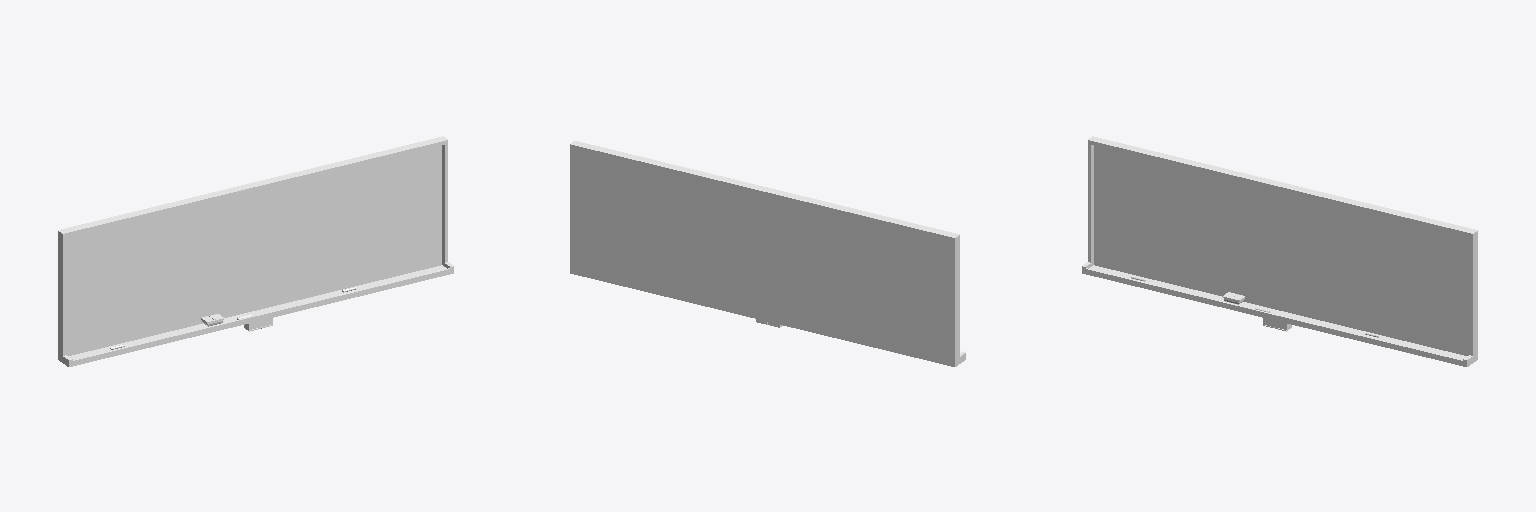
The model's file is blackboard.obj.
The picture shows the model from 3 angles: view 1: azimuth 30°, elevation 25°; view 2: azimuth 150°, elevation 25°; view 3: azimuth 330°, elevation 25°; orthographic projection.
Visible parts, largest first — view 1: Obj_BlackBoard; view 2: Obj_BlackBoard; view 3: Obj_BlackBoard.
Boxes of the visible parts, x1,y1,x2,y2 form: Obj_BlackBoard: [58, 136, 453, 366]; Obj_BlackBoard: [570, 141, 965, 366]; Obj_BlackBoard: [1082, 136, 1477, 366].
Size of the model in its own units: 5 by 1.7 by 0.2465.